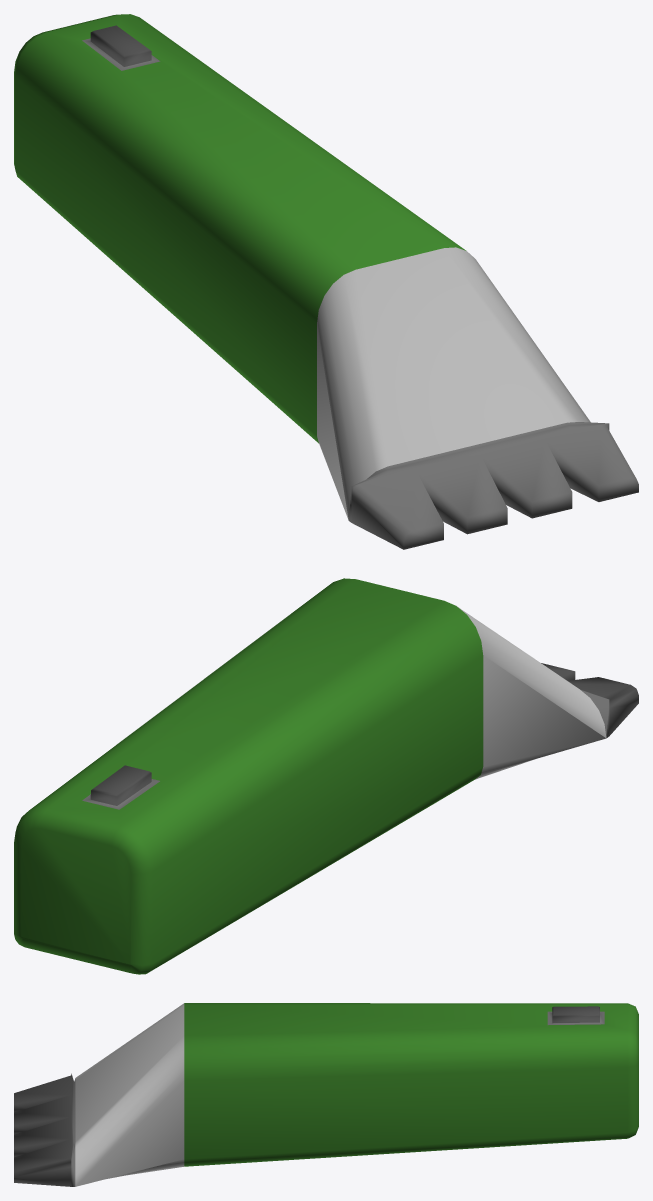
The model's file is Cutter-v1.1.fbx.
The picture shows the model from 3 angles, top to bottom: view 1: azimuth 30°, elevation 25°; view 2: azimuth 150°, elevation 25°; view 3: azimuth 270°, elevation 25°; orthographic projection. The views are drawn at different scales.
Visible parts, largest first — view 1: Cutter; view 2: Cutter; view 3: Cutter.
Part boxes in pixels (x1,y1,x2,y2): Cutter: (14,14,638,549); Cutter: (14,578,638,974); Cutter: (14,1003,638,1186).
Bounding box in the file's own units: 310 × 217 × 928.
